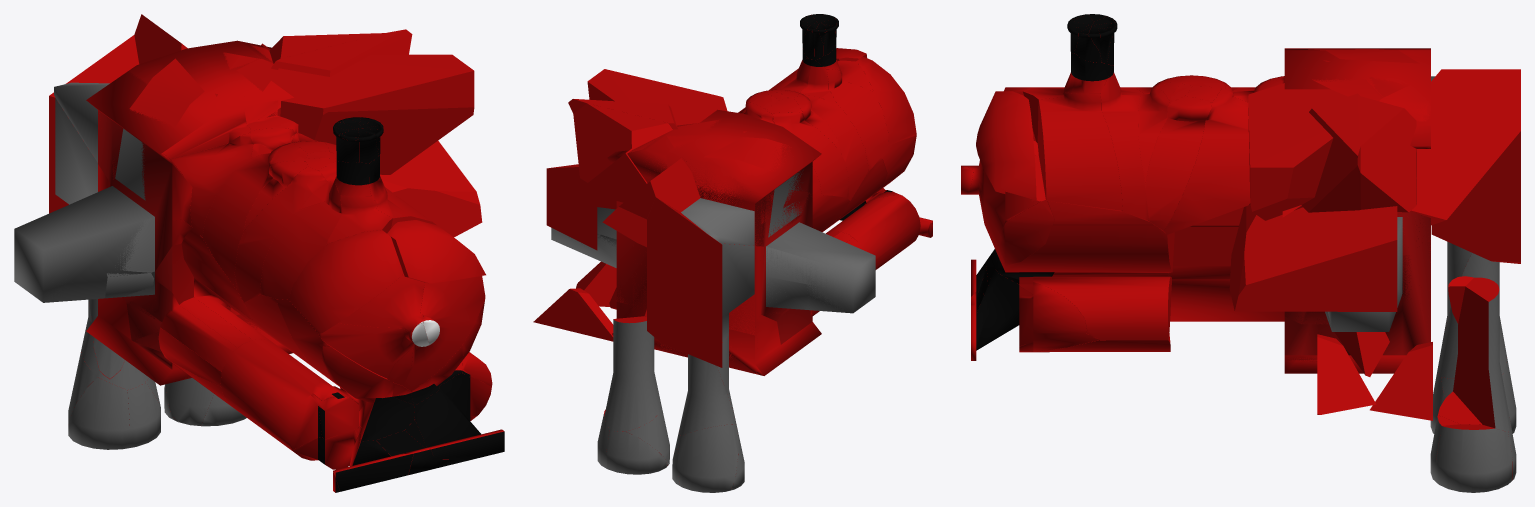
The model's file is BrokenChassis.fbx.
3 renders of one model, left to right at view 1: azimuth 30°, elevation 25°; view 2: azimuth 150°, elevation 25°; view 3: azimuth 270°, elevation 25°, orthographic. The views are drawn at different scales.
Parts seen in each view (by area): view 1: polySurface73_cell_070_cell_020, polySurface73_cell_072, polySurface73_cell_027, polySurface73_cell_065, polySurface73_cell_070_cell_032, polySurface73_cell_070_cell_001, polySurface73_cell_071, polySurface73_cell_017, polySurface73_cell_029, polySurface73_cell_013, polySurface73_cell_024, polySurface73_cell (+44 smaller); view 2: polySurface73_cell_070_cell_020, polySurface73_cell_036, polySurface73_cell_070_cell_001, polySurface73_cell_097, polySurface73_cell_070_cell_019, polySurface73_cell_072, polySurface73_cell_027, polySurface73_cell_002, polySurface73_cell_017, polySurface73_cell_088, polySurface73_cell_086, polySurface73_cell_024 (+33 smaller); view 3: polySurface73_cell_017, polySurface73_cell_088, polySurface73_cell_072, polySurface73_cell_070_cell_032, polySurface73_cell_099, polySurface73_cell_046, polySurface73_cell_108, polySurface73_cell_036, polySurface73_cell_097, polySurface73_cell_068, polySurface73_cell_070_cell_020, polySurface73_cell_070_cell_019 (+27 smaller).
Boxes of the visible parts, <box> form: polySurface73_cell_070_cell_020: <box>14,40,293,385</box>; polySurface73_cell_072: <box>271,54,474,174</box>; polySurface73_cell_027: <box>221,339,326,449</box>; polySurface73_cell_065: <box>289,230,403,333</box>; polySurface73_cell_070_cell_032: <box>43,98,292,385</box>; polySurface73_cell_070_cell_001: <box>37,110,172,351</box>; polySurface73_cell_071: <box>311,346,414,441</box>; polySurface73_cell_017: <box>380,141,482,237</box>; polySurface73_cell_029: <box>414,373,504,459</box>; polySurface73_cell_013: <box>403,276,485,391</box>; polySurface73_cell_024: <box>260,179,343,299</box>; polySurface73_cell: <box>202,146,283,289</box>; polySurface73_cell_070_cell_020: <box>551,109,875,375</box>; polySurface73_cell_036: <box>647,197,722,367</box>; polySurface73_cell_070_cell_001: <box>580,150,875,357</box>; polySurface73_cell_097: <box>604,316,661,431</box>; polySurface73_cell_070_cell_019: <box>573,103,672,182</box>; polySurface73_cell_072: <box>587,69,727,126</box>; polySurface73_cell_027: <box>827,195,920,269</box>; polySurface73_cell_002: <box>678,424,738,492</box>; polySurface73_cell_017: <box>546,164,616,250</box>; polySurface73_cell_088: <box>602,158,700,247</box>; polySurface73_cell_086: <box>679,354,736,436</box>; polySurface73_cell_024: <box>826,69,888,171</box>; polySurface73_cell_017: <box>1229,204,1397,311</box>; polySurface73_cell_088: <box>1410,69,1520,225</box>; polySurface73_cell_072: <box>1248,83,1347,220</box>; polySurface73_cell_070_cell_032: <box>1284,135,1430,373</box>; polySurface73_cell_099: <box>1037,92,1122,210</box>; polySurface73_cell_046: <box>1164,89,1250,234</box>; polySurface73_cell_108: <box>1019,278,1170,340</box>; polySurface73_cell_036: <box>1431,131,1520,263</box>; polySurface73_cell_097: <box>1453,277,1510,432</box>; polySurface73_cell_068: <box>996,200,1174,296</box>; polySurface73_cell_070_cell_020: <box>1284,48,1430,331</box>; polySurface73_cell_070_cell_019: <box>1360,96,1416,212</box>.
Size of what is drawn, in the model's own units: 10.54 by 11.16 by 13.28.
